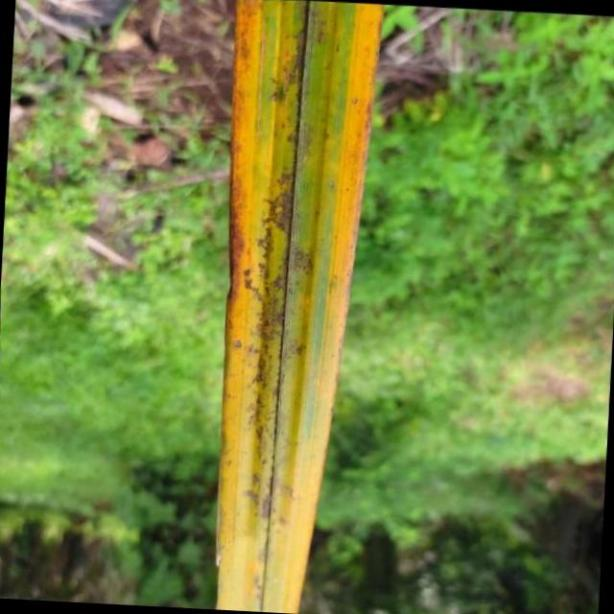Megnesium: (212, 0, 380, 614)
